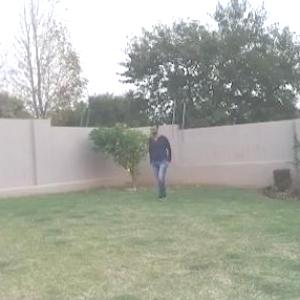follow: (148, 118, 175, 202)
